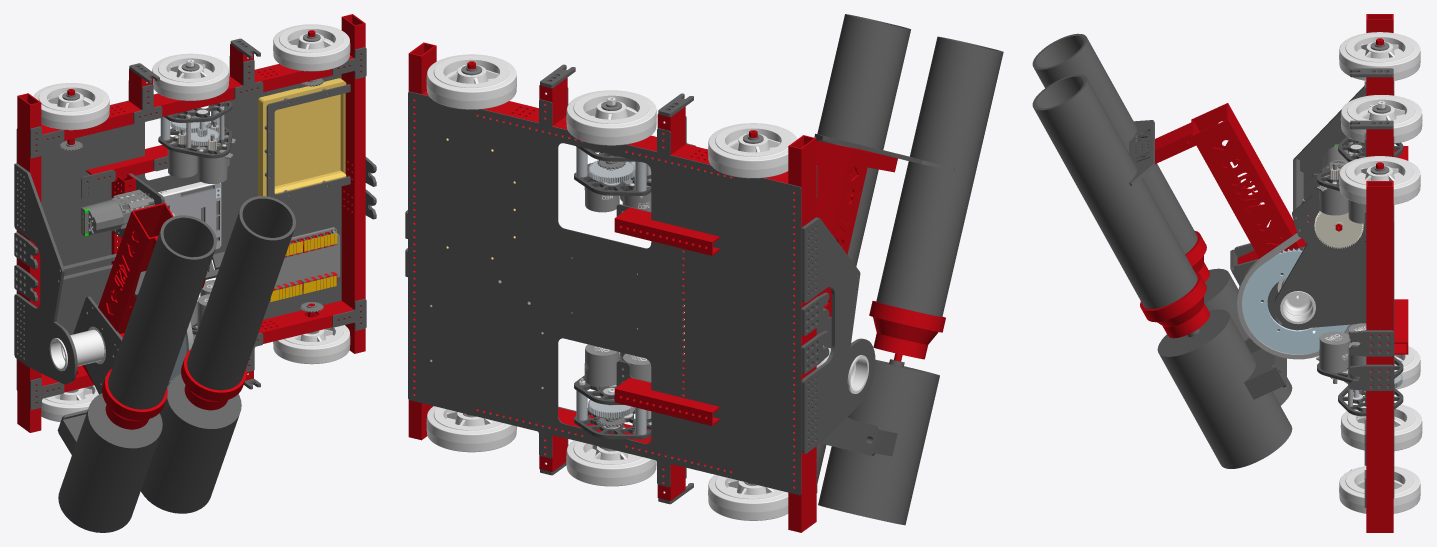
The model's file is TShirt.glb.
3 renders of one model, left to right at view 1: azimuth 30°, elevation 25°; view 2: azimuth 150°, elevation 25°; view 3: azimuth 270°, elevation 25°, orthographic. The views are drawn at different scales.
Visible parts, largest first — view 1: Part 1 (×2), Belly Pan, Hornblaster Block Cad (×2), 6" Colson Performa Wheel (1.5" WD, 1.1875" Bore) (×5), BatteryHolderPLA, Over-Bracket Plate, Outer Rail - A, Inner Rail (×2), Arm, T-Gusset (×6), Simplified PDH, Outer Rail - B (+15 smaller); view 2: Belly Pan, Part 1 (×2), 6" Colson Performa Wheel (1.5" WD, 1.1875" Bore) (×6), Hornblaster Block Cad, Over-Bracket Plate, Support Tube B (×2), Arm, Outer Rail - B, Part 2, Inner Rail (×2), Bumper Tube (×3), Outer Rail - A (+7 smaller); view 3: Part 1 (×2), Hornblaster Block Cad (×2), 6" Colson Performa Wheel (1.5" WD, 1.1875" Bore) (×6), Outer Rail - A, Arm, Power Transmission Plate, Configurable Sprocket, Part 2 (×2), BumperBracket (×2), NEO Brushless Motor (REV-21-1650) (×2), Over-Bracket Plate, 70t Aluminum Spur Gear (20 DP, 1/2" Hex Bore) (+11 smaller).
Part boxes in pixels (x1,y1,x2,y2): Part 1 (×2): (108,196,295,409); Belly Pan: (16,56,341,390); Hornblaster Block Cad (×2): (58,374,241,532); 6" Colson Performa Wheel (1.5" WD, 1.1875" Bore) (×5): (33,24,350,422); BatteryHolderPLA: (258,78,346,196); Over-Bracket Plate: (14,163,77,384); Outer Rail - A: (341,14,365,353); Inner Rail (×2): (41,55,353,392); Arm: (82,203,173,385); T-Gusset (×6): (30,47,366,409); Simplified PDH: (269,227,339,302); Outer Rail - B: (17,93,41,432); Belly Pan: (408,91,801,495); Part 1 (×2): (816,14,1003,316); 6" Colson Performa Wheel (1.5" WD, 1.1875" Bore) (×6): (426,54,797,520); Hornblaster Block Cad: (818,359,939,525); Over-Bracket Plate: (801,217,875,453); Support Tube B (×2): (614,207,719,425); Arm: (816,141,870,316); Outer Rail - B: (788,135,816,532); Part 2: (869,301,945,361); Inner Rail (×2): (422,90,788,472); Bumper Tube (×3): (539,77,685,500); Outer Rail - A: (408,42,436,440); Part 1 (×2): (1032,33,1197,308); Hornblaster Block Cad (×2): (1157,268,1292,468); 6" Colson Performa Wheel (1.5" WD, 1.1875" Bore) (×6): (1339,32,1422,513); Outer Rail - A: (1366,181,1393,532); Arm: (1191,103,1309,329); Power Transmission Plate: (1274,173,1366,328); Configurable Sprocket: (1242,248,1348,354); Part 2 (×2): (1140,231,1209,338); BumperBracket (×2): (1349,330,1393,390); NEO Brushless Motor (REV-21-1650) (×2): (1316,163,1350,383); Over-Bracket Plate: (1293,85,1364,200); 70t Aluminum Spur Gear (20 DP, 1/2" Hex Bore): (1314,211,1363,248).
Size of the model in its own units: 0.8132 by 0.8288 by 0.7264.
